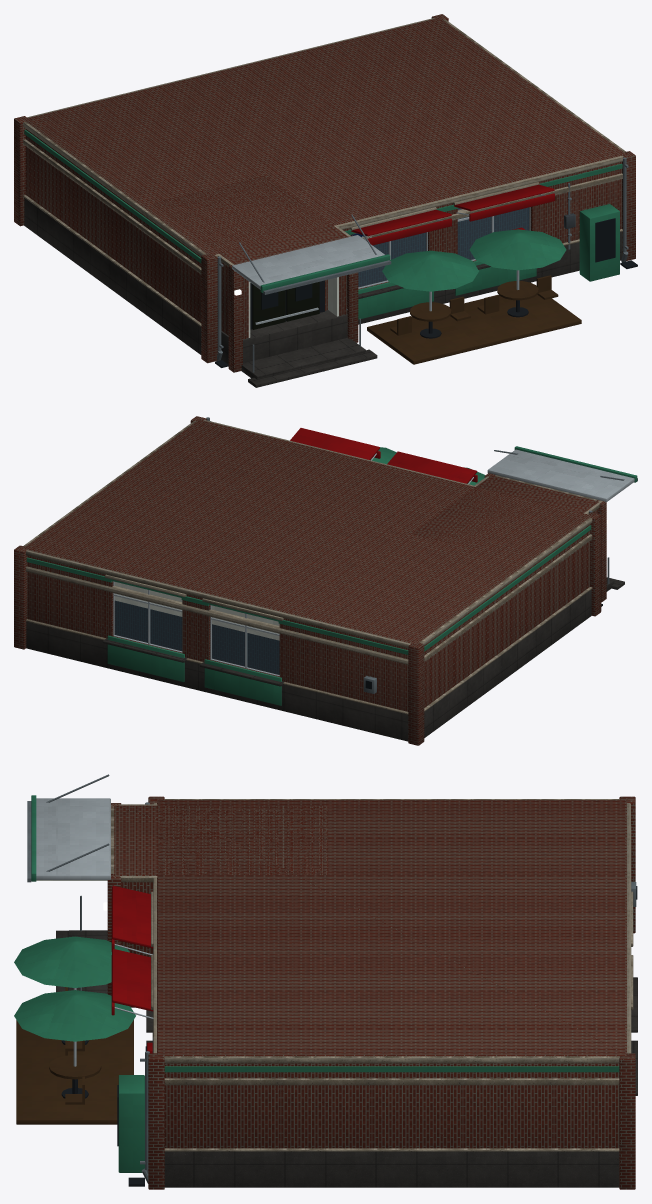
The model's file is fac_welfare_main.glb.
3 views of the same model, one above another, from view 1: azimuth 30°, elevation 25°; view 2: azimuth 150°, elevation 25°; view 3: azimuth 270°, elevation 25° (orthographic). The views are drawn at different scales.
Parts seen in each view (by area): view 1: FAC_WELFARE_MAIN; view 2: FAC_WELFARE_MAIN; view 3: FAC_WELFARE_MAIN.
Part boxes in pixels (x1=…): FAC_WELFARE_MAIN: x1=14, y1=14, x2=637, y2=387; FAC_WELFARE_MAIN: x1=14, y1=416, x2=637, y2=745; FAC_WELFARE_MAIN: x1=14, y1=774, x2=637, y2=1189.
Size of the model in its own units: 13.76 by 3.98 by 13.78.
21 materials, 16 textured.
